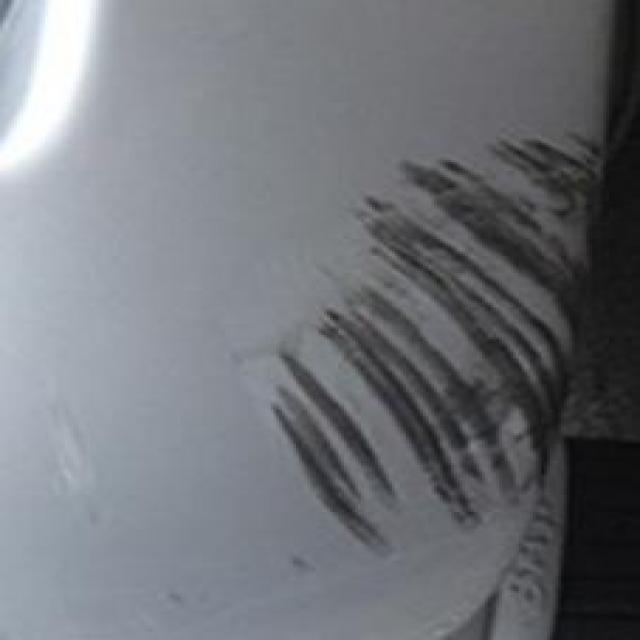scratch: (255, 107, 633, 568)
